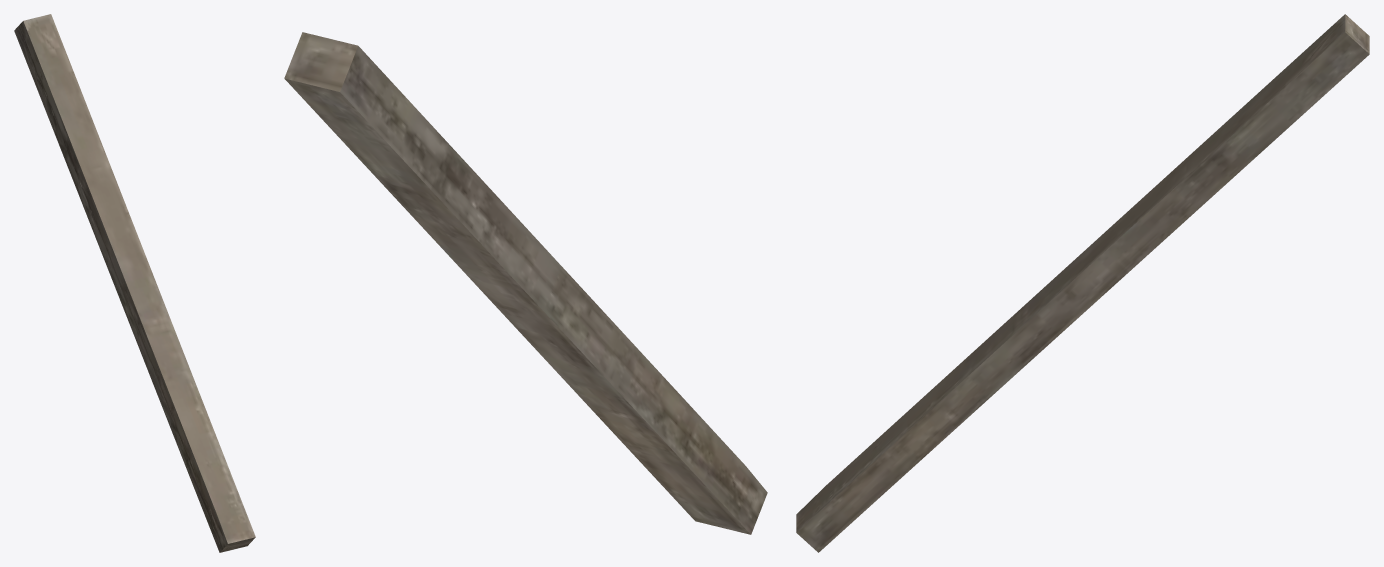
File: roof.brutalist.right.line.glb
3 views of the same model, side by side, from view 1: azimuth 30°, elevation 25°; view 2: azimuth 150°, elevation 25°; view 3: azimuth 270°, elevation 25° (orthographic). The views are drawn at different scales.
Visible parts, largest first — view 1: roof.right.line; view 2: roof.right.line; view 3: roof.right.line.
Boxes of the visible parts, x1,y1,x2,y2 form: roof.right.line: [14, 14, 255, 552]; roof.right.line: [284, 32, 767, 534]; roof.right.line: [796, 14, 1369, 552].
Size of the model in its own units: 0.25 by 3.32 by 3.31.
Materials: 1 (1 with a texture image).
